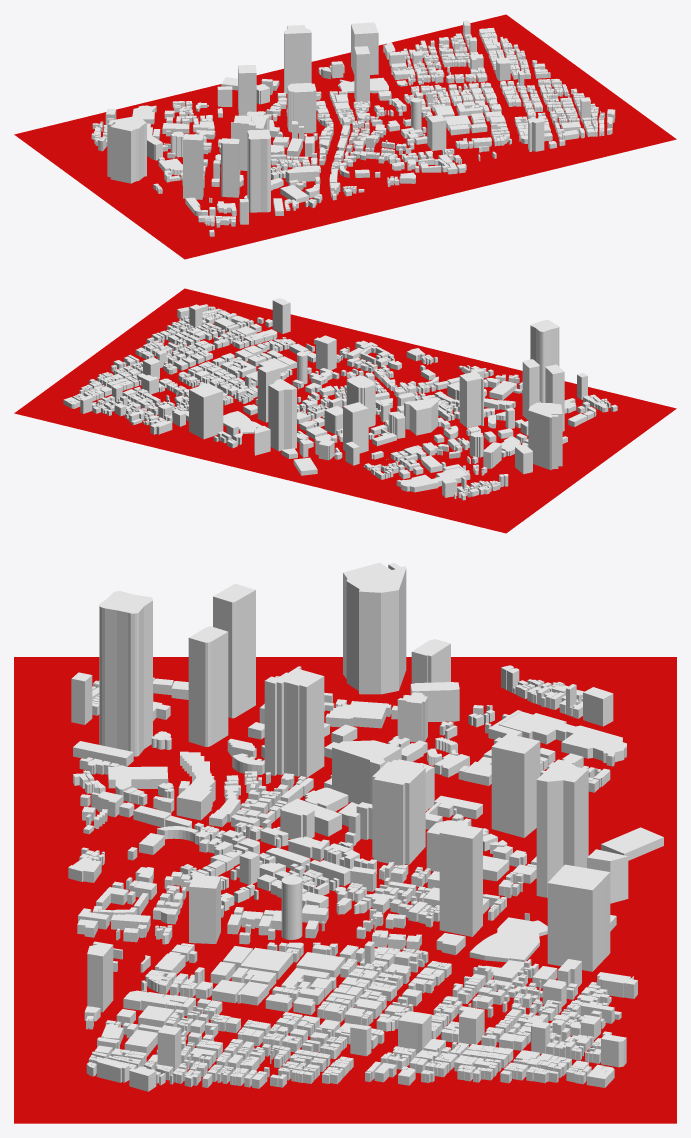
The model's file is Tokyo.glb.
3 views of the same model, one above another, from view 1: azimuth 30°, elevation 25°; view 2: azimuth 150°, elevation 25°; view 3: azimuth 270°, elevation 25° (orthographic). The views are drawn at different scales.
Visible parts, largest first — view 1: Areas:building, EXPORT_GOOGLE_SAT_WM; view 2: Areas:building, EXPORT_GOOGLE_SAT_WM; view 3: Areas:building, EXPORT_GOOGLE_SAT_WM.
Boxes of the visible parts, box(x1,y1,x2,y2) form: Areas:building: box(91, 20, 615, 236); EXPORT_GOOGLE_SAT_WM: box(14, 14, 676, 259); Areas:building: box(63, 298, 617, 500); EXPORT_GOOGLE_SAT_WM: box(14, 288, 676, 533); Areas:building: box(68, 562, 663, 1091); EXPORT_GOOGLE_SAT_WM: box(14, 657, 676, 1123).
Bounding box in the file's own units: 2292 × 350 × 1377.
